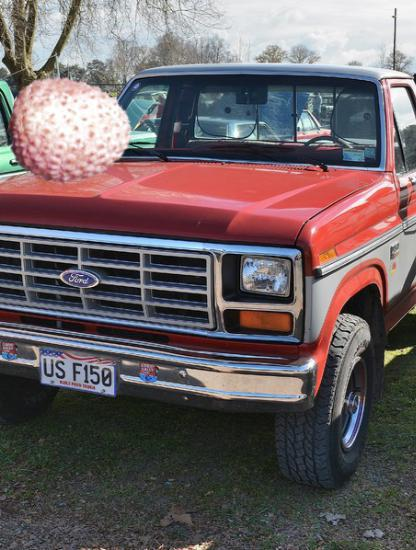Lychee: (8, 71, 133, 196)
